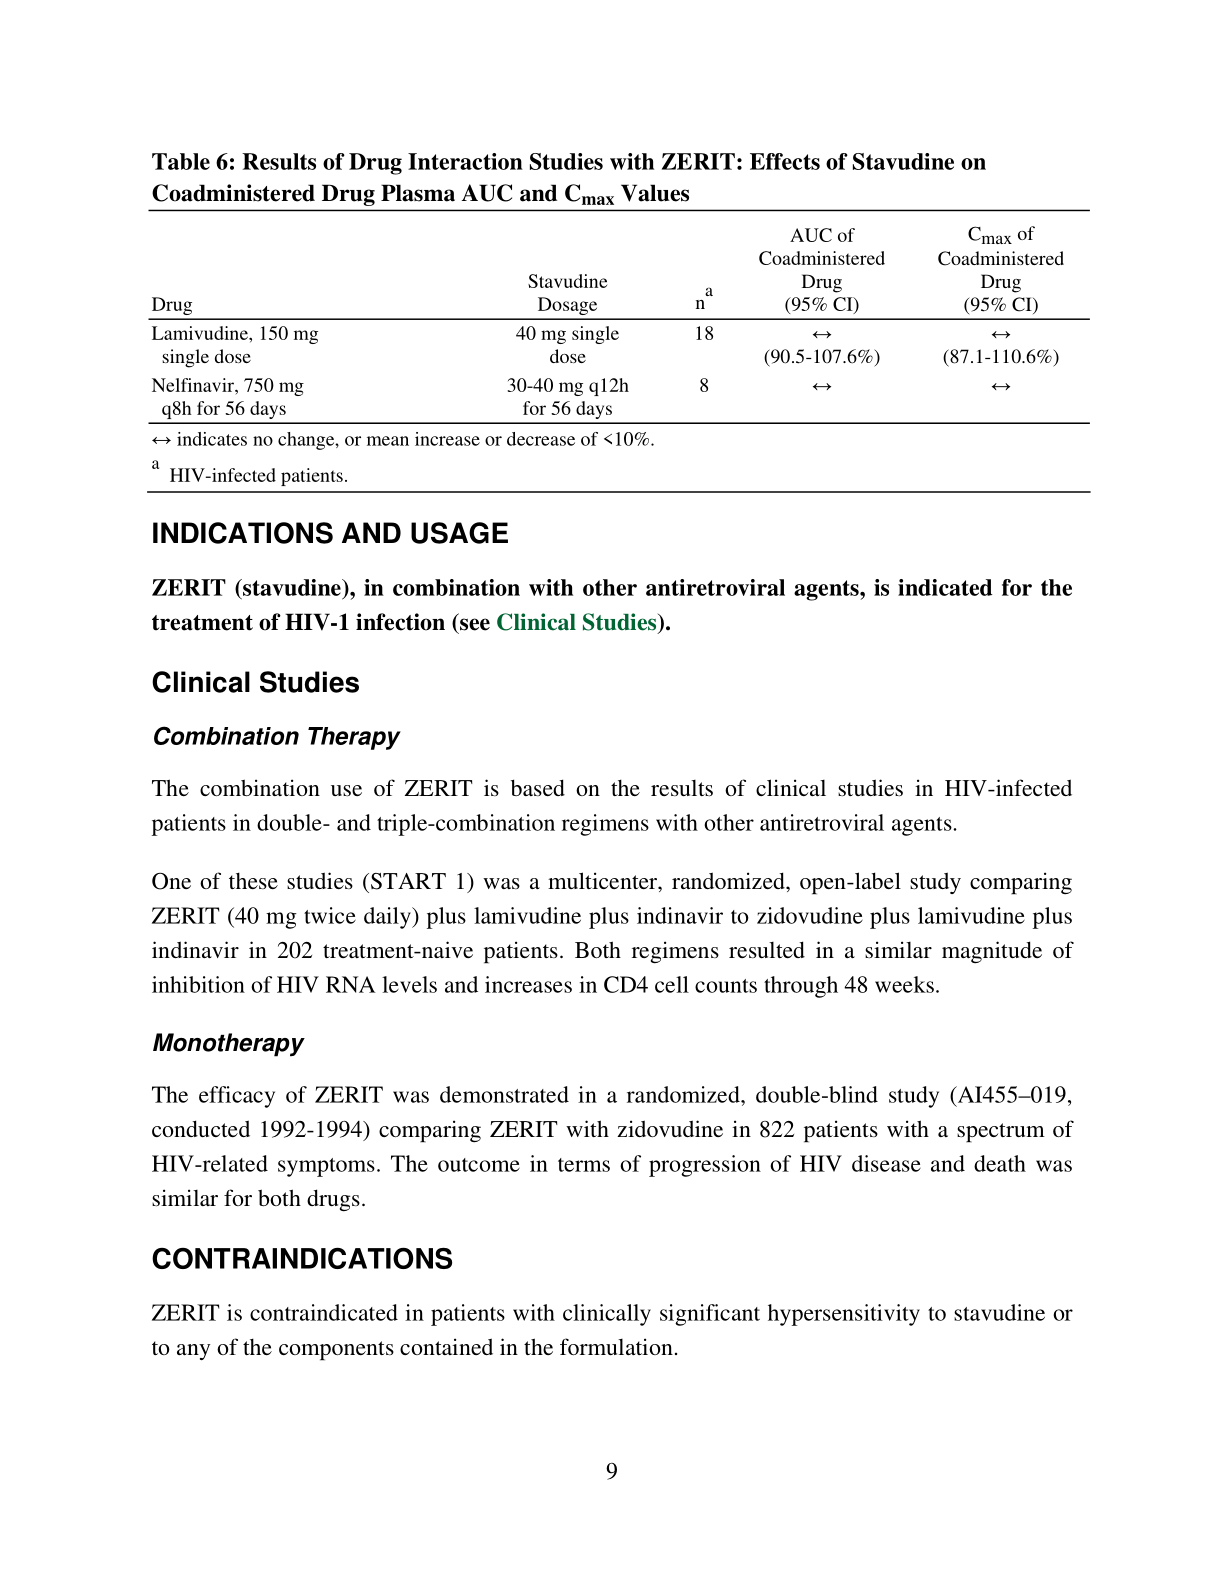partial_lined: (147, 210, 1092, 426)
